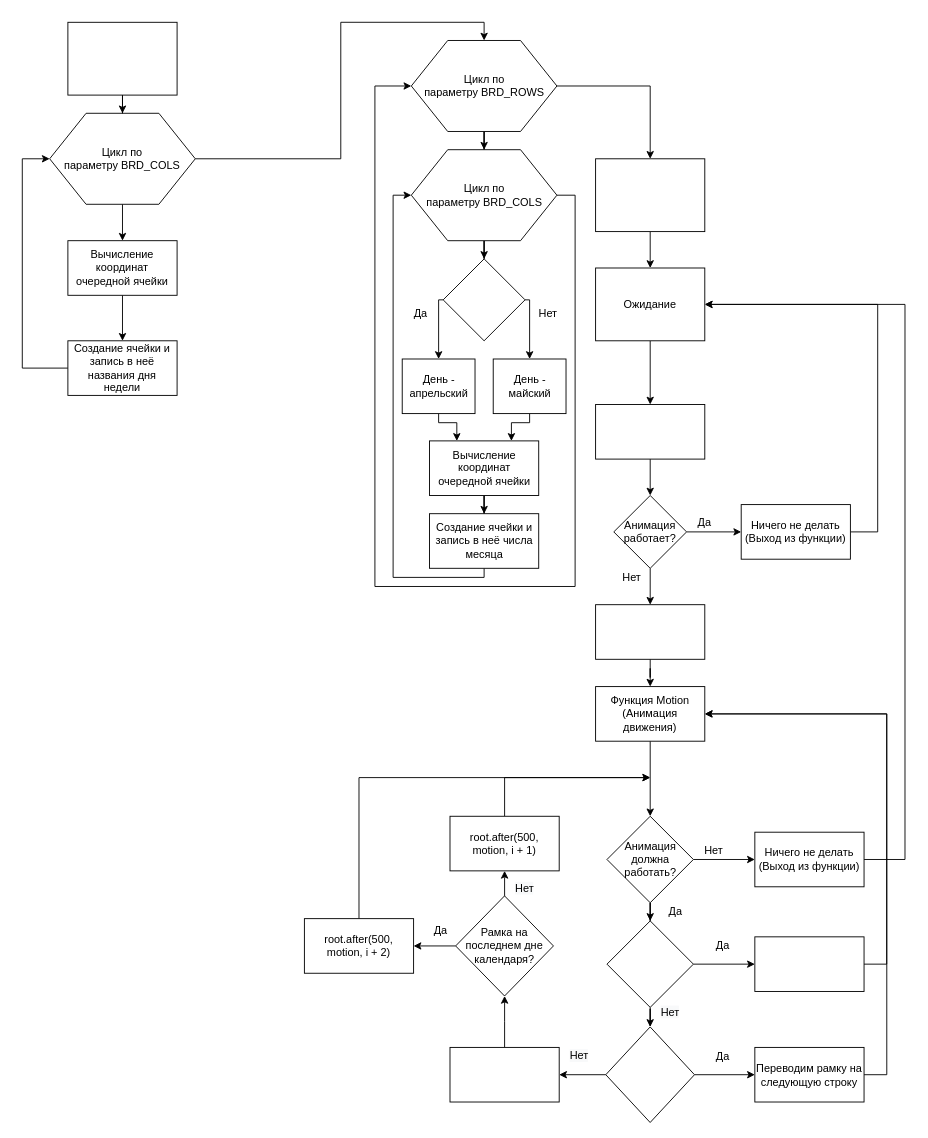
The diagram is 928 pixels wide and 1138 high, and some of its shapes have lost their labels. The centre of each missing label's shape, as x and y in pixels:
"Включить анимацию" belongs at point 650,631.
"Возвращаем рамку в начало месяца" belongs at point 809,963.
"Двигаем рамку вперёд" belongs at point 504,1074.
"Задание начальных параметров: BRD_ROWS BRD_COLS CELL_SZ" belongs at point 122,58.
"Очередное число - апрельское?" belongs at point 483,299.
"Создание рамки и кнопок" belongs at point 650,195.
"Счётчик вышел за рамки календаря?" belongs at point 649,963.
"Текущий день - воскресенье?" belongs at point 650,1074.
"Функция clicked (Нажат пуск)" belongs at point 650,431.
